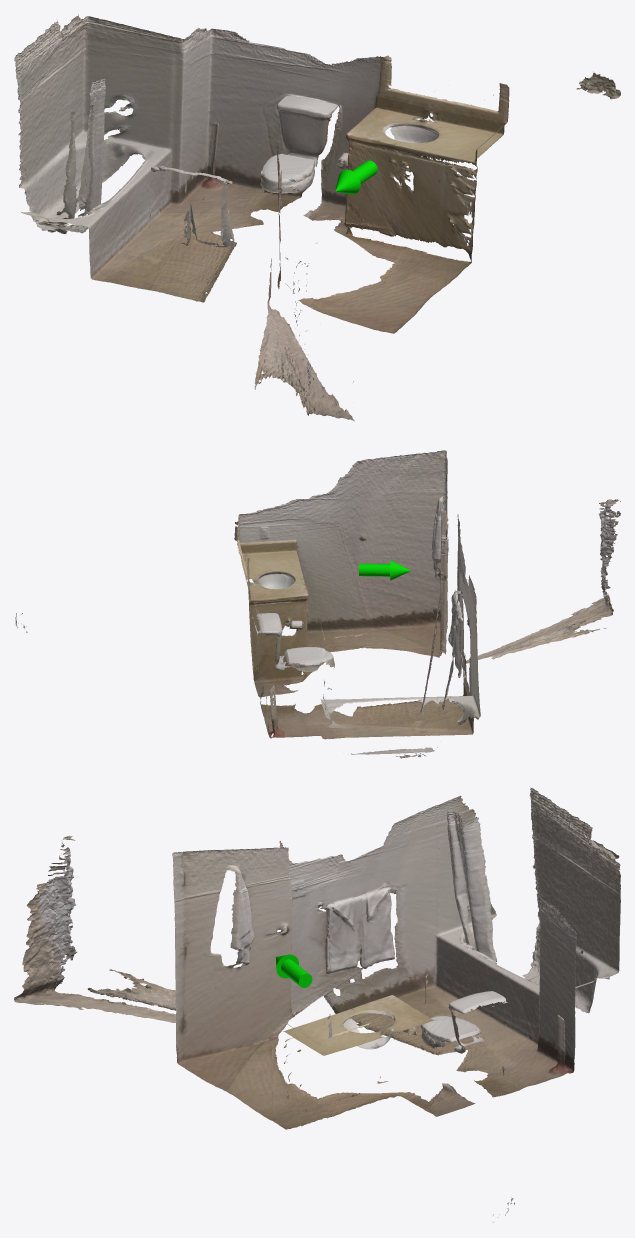
Rendered from situation_6.glb.
The picture shows the model from 3 angles, top to bottom: view 1: azimuth 30°, elevation 25°; view 2: azimuth 150°, elevation 25°; view 3: azimuth 270°, elevation 25°; orthographic projection. The views are drawn at different scales.
Parts seen in each view (by area): view 1: world; view 2: world; view 3: world.
Boxes of the visible parts, left/top/right/bottom form: world: left=14, top=14, right=620, bottom=421; world: left=15, top=450, right=620, bottom=758; world: left=14, top=788, right=620, bottom=1222.
Bounding box in the file's own units: 5.19 × 1.87 × 4.73.
